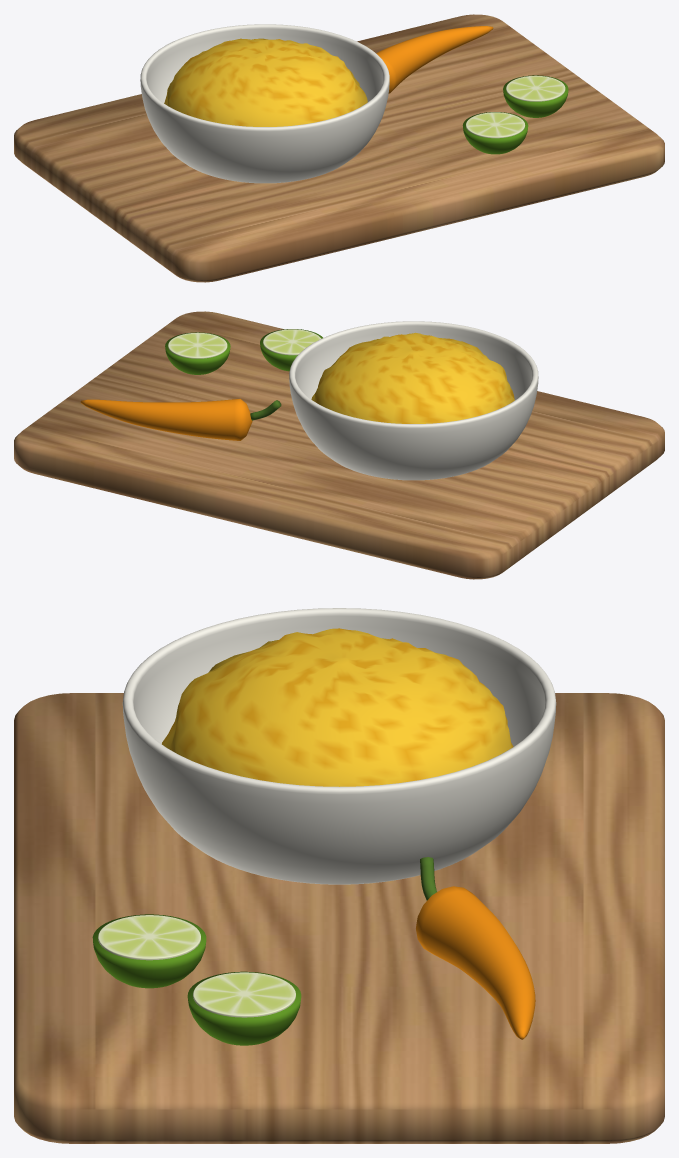
Rendered from paso-2.glb.
3 renders of one model, top to bottom at view 1: azimuth 30°, elevation 25°; view 2: azimuth 150°, elevation 25°; view 3: azimuth 270°, elevation 25°, orthographic. The views are drawn at different scales.
Parts seen in each view (by area): view 1: paso-2-0, paso-2-1, paso-2-2, paso-2-7, paso-2-4, paso-2-6, paso-2-5, paso-2-3; view 2: paso-2-0, paso-2-1, paso-2-2, paso-2-7, paso-2-6, paso-2-4, paso-2-5, paso-2-3; view 3: paso-2-0, paso-2-1, paso-2-2, paso-2-7, paso-2-6, paso-2-4, paso-2-3, paso-2-5.
Boxes of the visible parts, x1,y1,x2,y2 form: paso-2-0: [14, 14, 664, 282]; paso-2-1: [140, 24, 389, 183]; paso-2-2: [164, 38, 367, 126]; paso-2-7: [376, 26, 493, 93]; paso-2-4: [466, 112, 525, 138]; paso-2-6: [506, 75, 565, 101]; paso-2-5: [503, 75, 568, 117]; paso-2-3: [462, 112, 528, 154]; paso-2-0: [14, 311, 664, 579]; paso-2-1: [289, 321, 538, 480]; paso-2-2: [311, 332, 514, 423]; paso-2-7: [80, 398, 252, 440]; paso-2-6: [168, 332, 227, 358]; paso-2-4: [263, 329, 321, 355]; paso-2-5: [165, 332, 230, 374]; paso-2-3: [260, 329, 322, 371]; paso-2-0: [14, 693, 664, 1143]; paso-2-1: [122, 608, 556, 884]; paso-2-2: [162, 628, 513, 786]; paso-2-7: [416, 886, 535, 1039]; paso-2-6: [193, 972, 295, 1017]; paso-2-4: [98, 915, 200, 960]; paso-2-3: [92, 914, 206, 988]; paso-2-5: [187, 971, 301, 1045].
Bounding box in the file's own units: 0.36 × 0.0889 × 0.24.
Materials: 7 (1 with a texture image).
